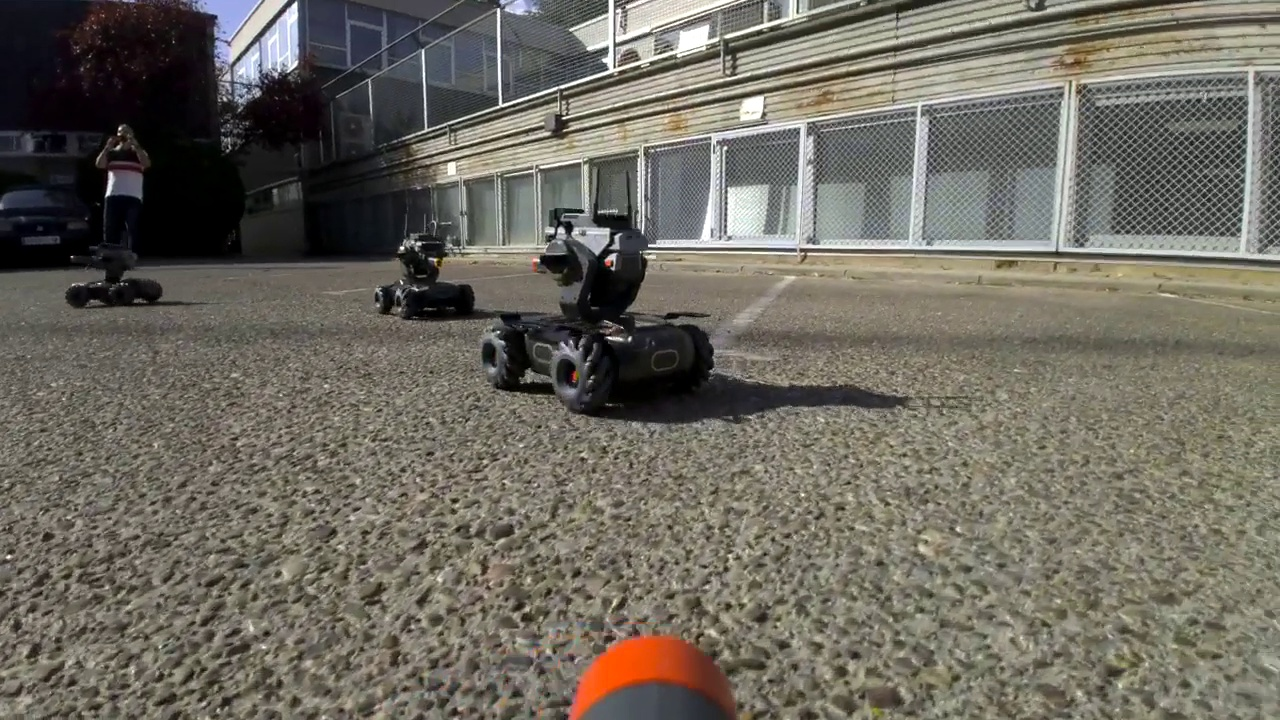robot: (478, 166, 716, 415), (371, 228, 476, 320), (65, 242, 162, 306)
